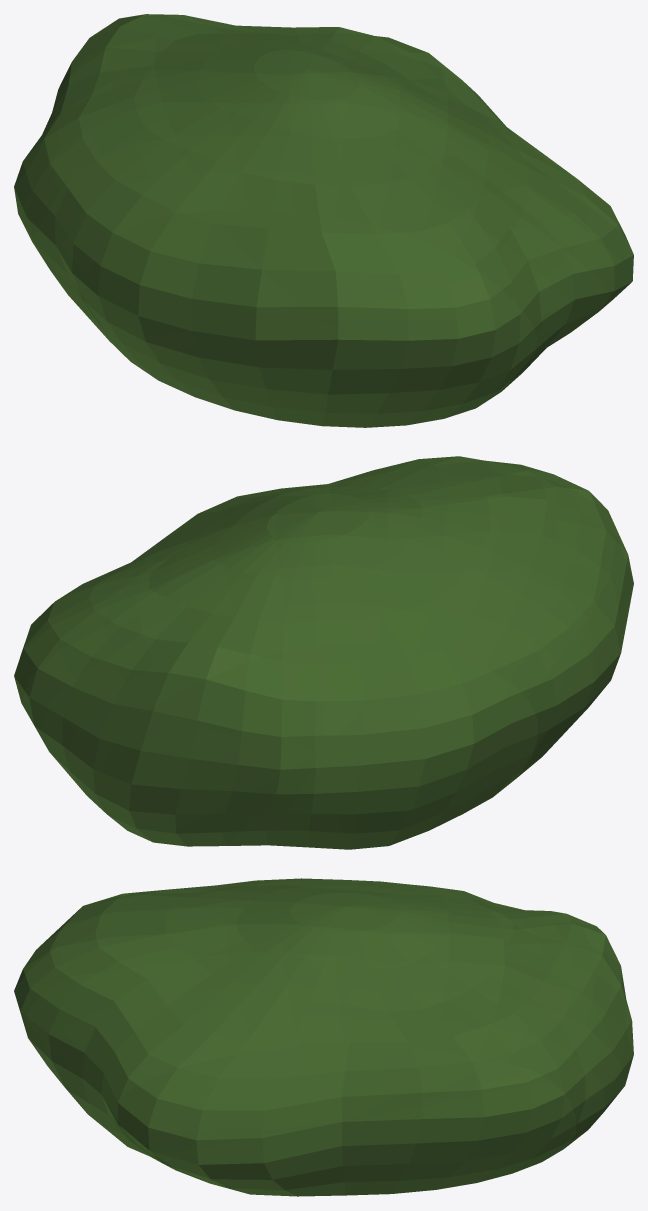
The model's file is bush.fbx.
The picture shows the model from 3 angles, top to bottom: view 1: azimuth 30°, elevation 25°; view 2: azimuth 150°, elevation 25°; view 3: azimuth 270°, elevation 25°; orthographic projection. The views are drawn at different scales.
Parts seen in each view (by area): view 1: Sphere; view 2: Sphere; view 3: Sphere.
Part boxes in pixels (<box>): Sphere: <box>14,14,633,427</box>; Sphere: <box>14,456,633,849</box>; Sphere: <box>14,878,633,1196</box>.
Bounding box in the file's own units: 335 × 169 × 437.
